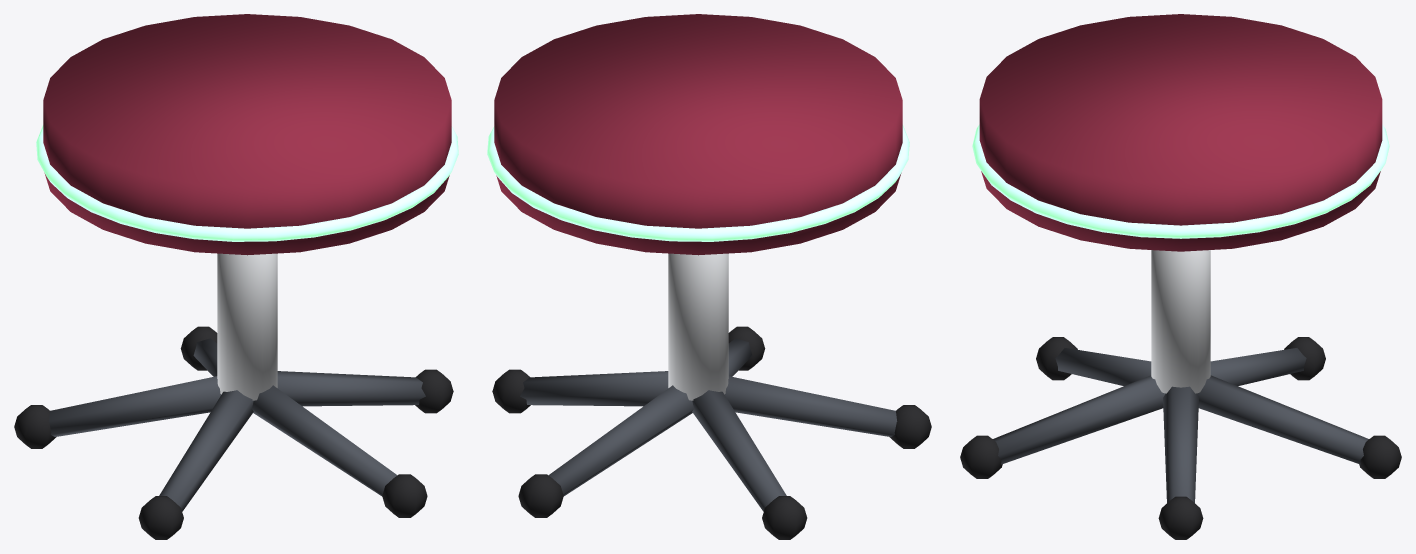
Rendered from office_chair_stool_swivel.glb.
3 renders of one model, left to right at view 1: azimuth 30°, elevation 25°; view 2: azimuth 150°, elevation 25°; view 3: azimuth 270°, elevation 25°, orthographic.
Visible parts, largest first — view 1: GD_office_chair_stool_swivel__m3, GD_office_chair_stool_swivel__m0, GD_office_chair_stool_swivel__m2, GD_office_chair_stool_swivel__m4, GD_office_chair_stool_swivel__m1; view 2: GD_office_chair_stool_swivel__m3, GD_office_chair_stool_swivel__m0, GD_office_chair_stool_swivel__m2, GD_office_chair_stool_swivel__m4, GD_office_chair_stool_swivel__m1; view 3: GD_office_chair_stool_swivel__m3, GD_office_chair_stool_swivel__m0, GD_office_chair_stool_swivel__m2, GD_office_chair_stool_swivel__m4, GD_office_chair_stool_swivel__m1.
Boxes of the visible parts, x1,y1,x2,y2 form: GD_office_chair_stool_swivel__m3: (43, 14, 451, 255); GD_office_chair_stool_swivel__m0: (48, 338, 425, 511); GD_office_chair_stool_swivel__m2: (217, 253, 277, 400); GD_office_chair_stool_swivel__m4: (36, 125, 458, 241); GD_office_chair_stool_swivel__m1: (14, 326, 453, 539); GD_office_chair_stool_swivel__m3: (494, 14, 902, 255); GD_office_chair_stool_swivel__m0: (520, 338, 897, 511); GD_office_chair_stool_swivel__m2: (668, 253, 728, 400); GD_office_chair_stool_swivel__m4: (487, 125, 909, 241); GD_office_chair_stool_swivel__m1: (492, 326, 931, 539); GD_office_chair_stool_swivel__m3: (979, 14, 1382, 251); GD_office_chair_stool_swivel__m0: (993, 348, 1368, 502); GD_office_chair_stool_swivel__m2: (1151, 250, 1210, 393); GD_office_chair_stool_swivel__m4: (972, 124, 1389, 238); GD_office_chair_stool_swivel__m1: (960, 337, 1401, 539).
Size of the model in its own units: 0.586 by 0.52 by 0.5926.
